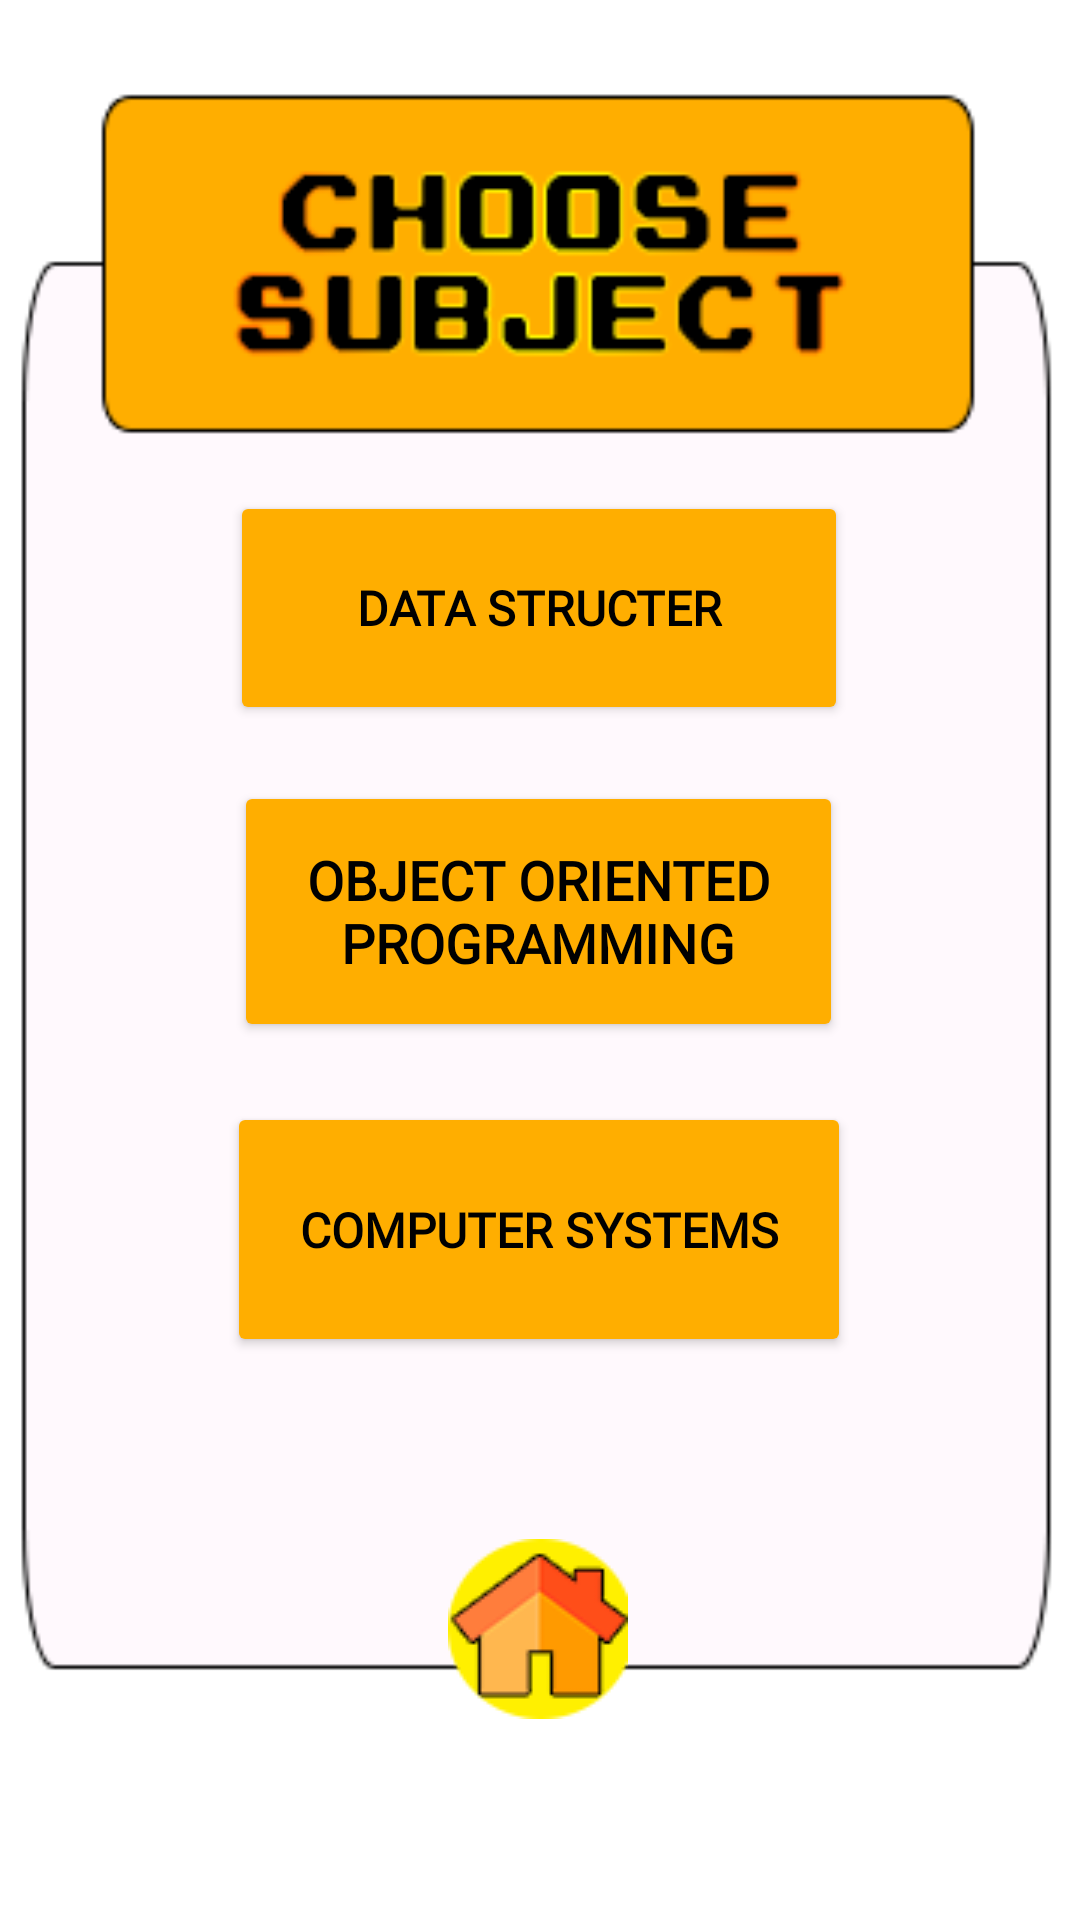

Locate icon controls on the screen. Image size 1080px x 1920px, boxes as detection(x1, y1, x2, y2).
homeupdate: detection(412, 1539, 664, 1719)
